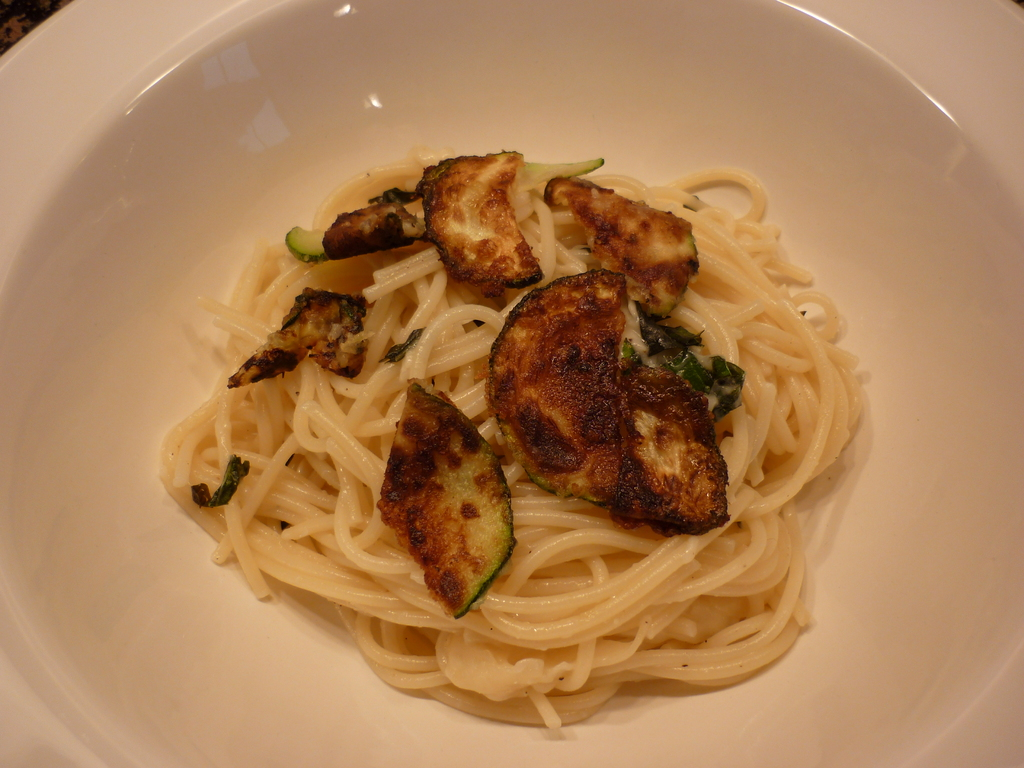pasta: (159, 142, 874, 726)
